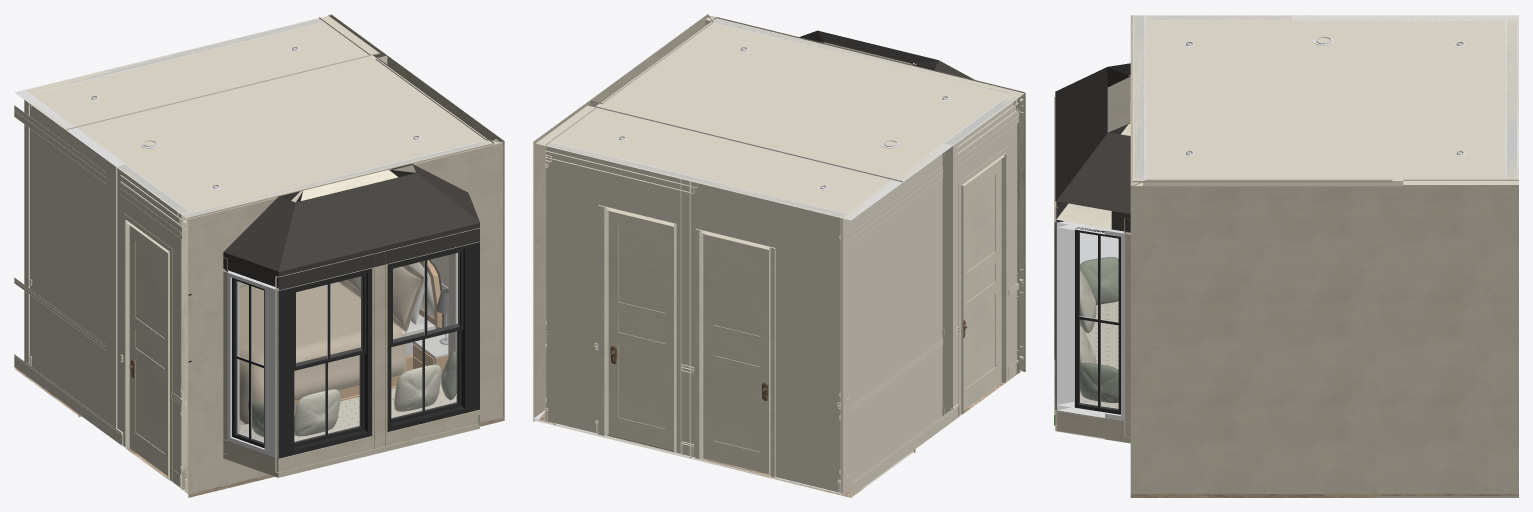
The model's file is loli-bedroom-054fe267c6f0.glb.
The picture shows the model from 3 angles, left to right: view 1: azimuth 30°, elevation 25°; view 2: azimuth 150°, elevation 25°; view 3: azimuth 270°, elevation 25°; orthographic projection. The views are drawn at different scales.
Visible parts, largest first — view 1: loli-bedroom-dbd60ee5c3733ed6, loli-bedroom-93447d0fea18c81b, loli-bedroom-6a1144f4e43410bb, loli-bedroom-fd1c2425c72e98e4, loli-bedroom-daa4f3edc919433a, loli-bedroom-4cda501b4aaed82b, loli-bedroom-2575515a05775d9e, loli-bedroom-7cd33252cebb505d, loli-bedroom-527014f532f46c8e, loli-bedroom-cf6d22c5317ced0b, loli-bedroom-75b75731e5e739a5, loli-bedroom-68d06b361ac47823 (+21 smaller); view 2: loli-bedroom-0e637d2be41161fb, loli-bedroom-dbd60ee5c3733ed6, loli-bedroom-6a1144f4e43410bb, loli-bedroom-eceff908bd344cec, loli-bedroom-5b37b110dc0e2cdc, loli-bedroom-2575515a05775d9e, loli-bedroom-68d06b361ac47823, loli-bedroom-cf6d22c5317ced0b, loli-bedroom-319244b3406409d9, loli-bedroom-93447d0fea18c81b, loli-bedroom-d6b1bc8c737b28e2, loli-bedroom-8cbce1d8f2f8a576 (+14 smaller); view 3: loli-bedroom-592bd9af2ed71797, loli-bedroom-dbd60ee5c3733ed6, loli-bedroom-319244b3406409d9, loli-bedroom-2575515a05775d9e, loli-bedroom-53e6a9e479527da3, loli-bedroom-daa4f3edc919433a, loli-bedroom-131a246e00605616, loli-bedroom-d8b729a36612415b, loli-bedroom-93447d0fea18c81b, loli-bedroom-0e637d2be41161fb, loli-bedroom-ad11484878029c25, loli-bedroom-e0a3201bd49c7536 (+9 smaller).
Part boxes in pixels (x1=…): loli-bedroom-dbd60ee5c3733ed6: x1=77, y1=54, x2=494, y2=218; loli-bedroom-93447d0fea18c81b: x1=181, y1=140, x2=502, y2=494; loli-bedroom-6a1144f4e43410bb: x1=14, y1=90, x2=125, y2=428; loli-bedroom-fd1c2425c72e98e4: x1=279, y1=268, x2=371, y2=458; loli-bedroom-daa4f3edc919433a: x1=278, y1=169, x2=479, y2=290; loli-bedroom-4cda501b4aaed82b: x1=388, y1=242, x2=479, y2=431; loli-bedroom-2575515a05775d9e: x1=17, y1=15, x2=380, y2=130; loli-bedroom-7cd33252cebb505d: x1=239, y1=282, x2=406, y2=424; loli-bedroom-527014f532f46c8e: x1=227, y1=271, x2=278, y2=458; loli-bedroom-cf6d22c5317ced0b: x1=129, y1=225, x2=167, y2=475; loli-bedroom-75b75731e5e739a5: x1=277, y1=264, x2=478, y2=477; loli-bedroom-68d06b361ac47823: x1=116, y1=164, x2=190, y2=487; loli-bedroom-0e637d2be41161fb: x1=545, y1=141, x2=847, y2=493; loli-bedroom-dbd60ee5c3733ed6: x1=595, y1=17, x2=1024, y2=182; loli-bedroom-6a1144f4e43410bb: x1=842, y1=143, x2=952, y2=495; loli-bedroom-eceff908bd344cec: x1=608, y1=210, x2=673, y2=450; loli-bedroom-5b37b110dc0e2cdc: x1=703, y1=233, x2=768, y2=474; loli-bedroom-2575515a05775d9e: x1=535, y1=104, x2=893, y2=220; loli-bedroom-68d06b361ac47823: x1=942, y1=95, x2=1018, y2=420; loli-bedroom-cf6d22c5317ced0b: x1=963, y1=159, x2=1001, y2=410; loli-bedroom-319244b3406409d9: x1=533, y1=100, x2=600, y2=419; loli-bedroom-93447d0fea18c81b: x1=709, y1=15, x2=1025, y2=372; loli-bedroom-d6b1bc8c737b28e2: x1=695, y1=228, x2=775, y2=477; loli-bedroom-8cbce1d8f2f8a576: x1=961, y1=153, x2=1006, y2=414; loli-bedroom-592bd9af2ed71797: x1=1130, y1=179, x2=1392, y2=493; loli-bedroom-dbd60ee5c3733ed6: x1=1132, y1=15, x2=1403, y2=182; loli-bedroom-319244b3406409d9: x1=1392, y1=179, x2=1518, y2=493; loli-bedroom-2575515a05775d9e: x1=1403, y1=15, x2=1518, y2=186; loli-bedroom-53e6a9e479527da3: x1=1056, y1=221, x2=1125, y2=421; loli-bedroom-daa4f3edc919433a: x1=1055, y1=67, x2=1130, y2=221; loli-bedroom-131a246e00605616: x1=1056, y1=124, x2=1130, y2=232; loli-bedroom-d8b729a36612415b: x1=1055, y1=234, x2=1130, y2=443; loli-bedroom-93447d0fea18c81b: x1=1130, y1=15, x2=1146, y2=185; loli-bedroom-0e637d2be41161fb: x1=1505, y1=20, x2=1518, y2=179; loli-bedroom-ad11484878029c25: x1=1147, y1=177, x2=1391, y2=186; loli-bedroom-e0a3201bd49c7536: x1=1080, y1=301, x2=1118, y2=407.
Size of the model in its own units: 3.62 by 3.05 by 4.12.
43 materials, 8 textured.
